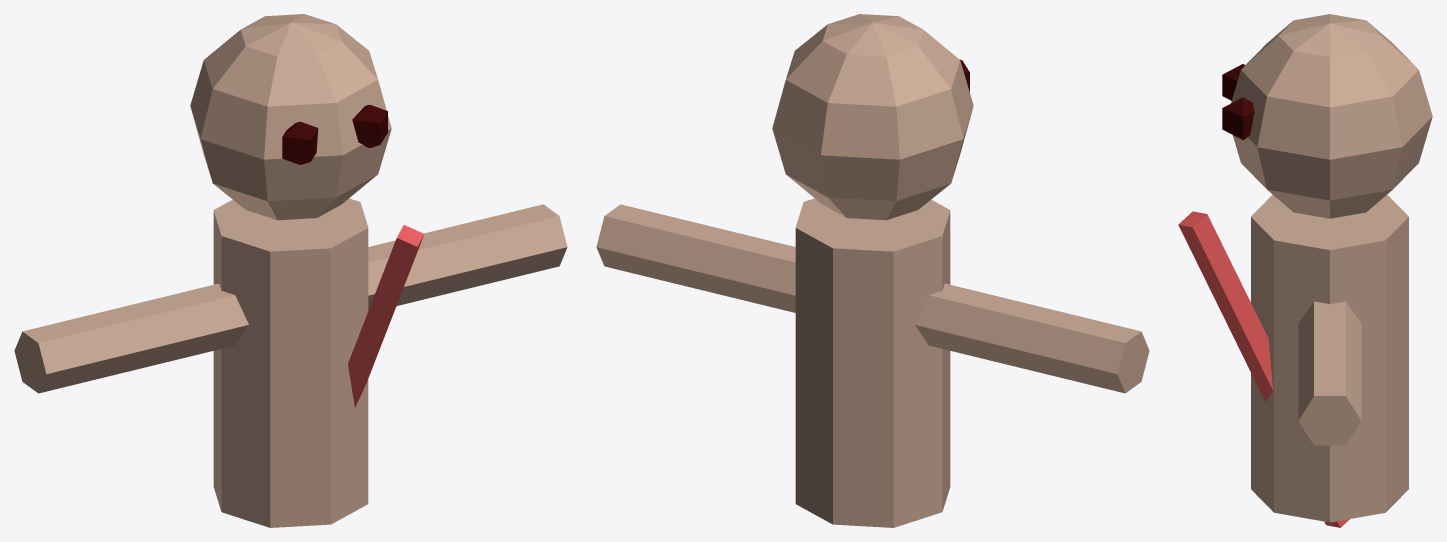
The model's file is voodoo_doll.dae.
3 renders of one model, left to right at view 1: azimuth 30°, elevation 25°; view 2: azimuth 150°, elevation 25°; view 3: azimuth 270°, elevation 25°, orthographic.
Visible parts, largest first — view 1: Cylinder, Sphere, Cylinder.001, Cylinder.002, Cylinder.003, Sphere.001, Sphere.002; view 2: Cylinder, Sphere, Cylinder.001, Cylinder.002; view 3: Cylinder, Sphere, Cylinder.002, Cylinder.003, Sphere.002, Sphere.001.
Boxes of the visible parts, x1,y1,x2,y2 form: Cylinder: [213, 198, 368, 527]; Sphere: [190, 14, 391, 220]; Cylinder.001: [14, 283, 248, 393]; Cylinder.002: [368, 204, 567, 310]; Cylinder.003: [348, 225, 424, 407]; Sphere.001: [282, 121, 318, 164]; Sphere.002: [352, 104, 387, 147]; Cylinder: [795, 198, 950, 527]; Sphere: [772, 14, 973, 220]; Cylinder.001: [915, 283, 1149, 393]; Cylinder.002: [596, 204, 795, 312]; Cylinder: [1251, 194, 1408, 522]; Sphere: [1231, 14, 1432, 218]; Cylinder.002: [1298, 301, 1361, 445]; Cylinder.003: [1178, 211, 1349, 527]; Sphere.002: [1222, 97, 1254, 139]; Sphere.001: [1222, 64, 1245, 100].
Size of the model in its own units: 75 by 32.19 by 68.77.
